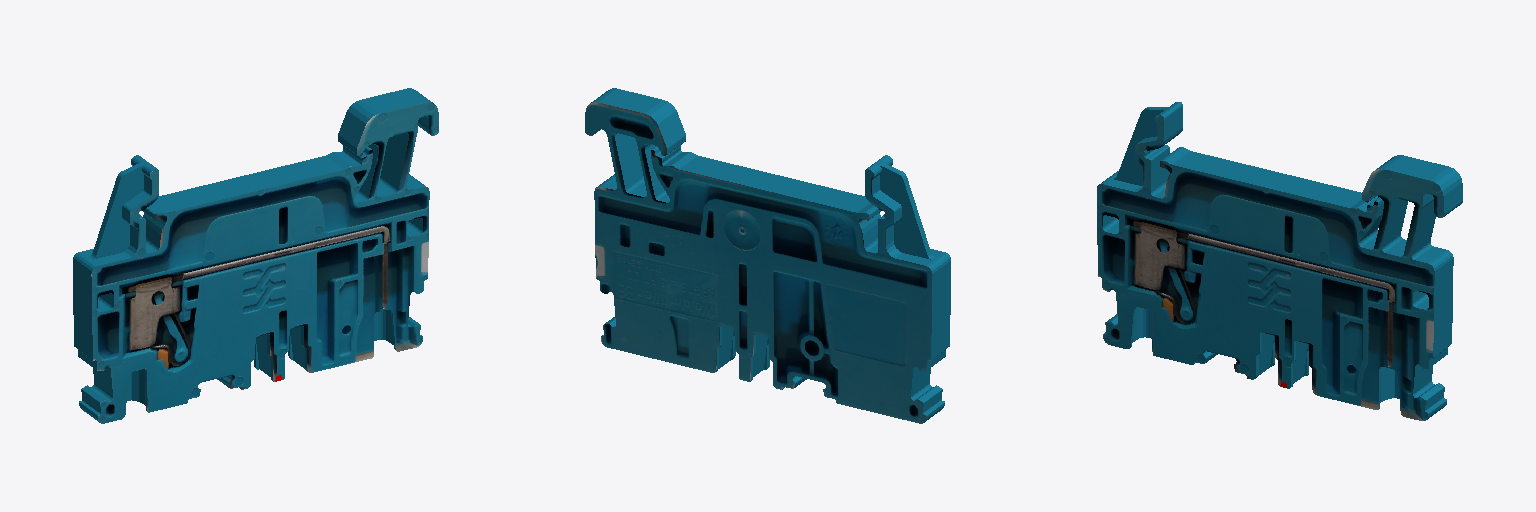
3 renders of one model, left to right at view 1: azimuth 30°, elevation 25°; view 2: azimuth 150°, elevation 25°; view 3: azimuth 330°, elevation 25°, orthographic.
Visible parts, largest first — view 1: [number redacted]_[number redacted].002; view 2: [number redacted]_[number redacted].002; view 3: [number redacted]_[number redacted].002.
Boxes of the visible parts, x1=… form: [number redacted]_[number redacted].002: x1=73, y1=88, x2=438, y2=423; [number redacted]_[number redacted].002: x1=585, y1=88, x2=950, y2=423; [number redacted]_[number redacted].002: x1=1097, y1=102, x2=1462, y2=420.
Size of the model in its own units: 0.0542 by 0.0362 by 0.0051.
Materials: 1 (1 with a texture image).